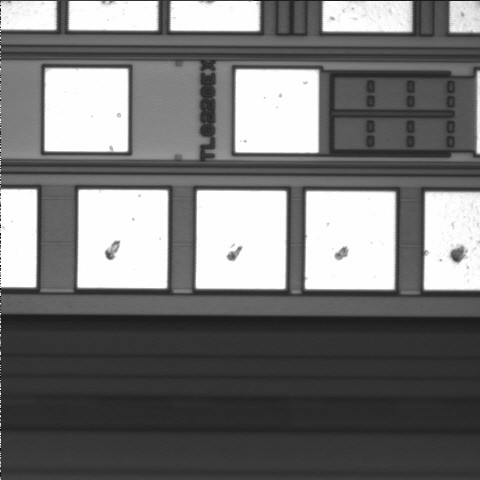pad: (196, 190, 286, 289), (78, 190, 168, 288), (305, 191, 395, 289), (235, 69, 319, 153), (45, 68, 128, 152)
